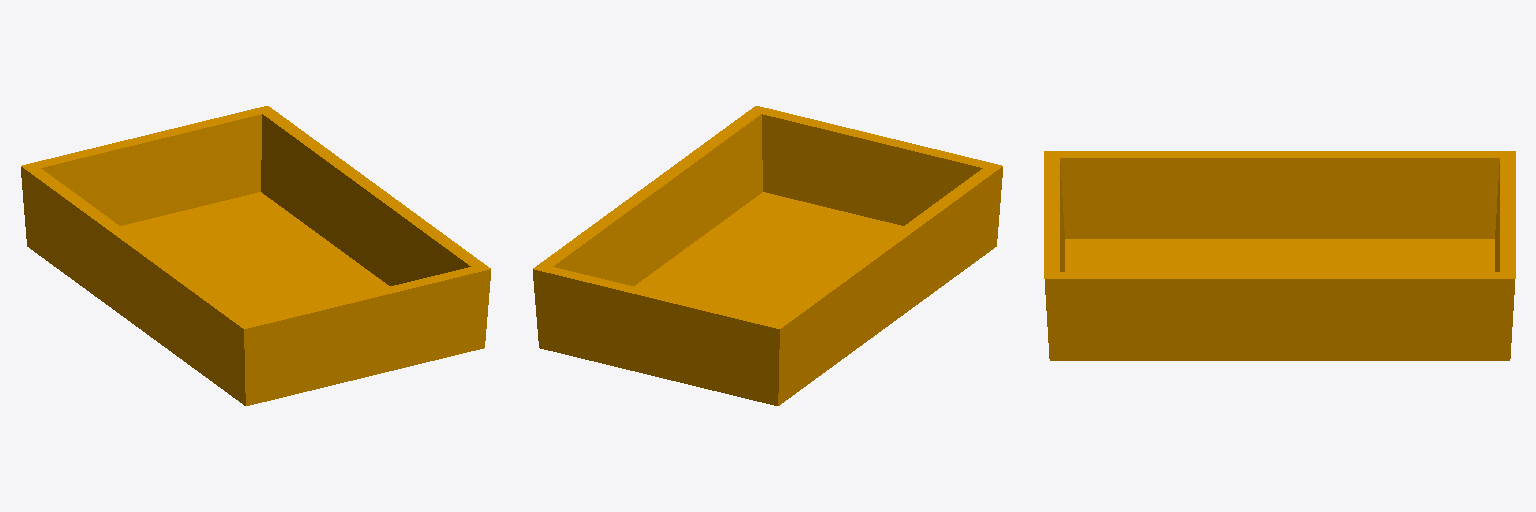
URDF robot description (container):
<?xml version="1.0"?>
<robot name="container">
  <link name="container">
    <inertial>
      <origin xyz="0 0 0"/>
      <mass value="1.7"/>
      <inertia ixx="1" ixy="0" ixz="0" iyy="1" iyz="0" izz="1"/>
    </inertial>
    <collision>
      <origin xyz="0 0 0"/>
      <geometry>
        <mesh filename="package://fcsc_description/mesh/container.stl" scale="1 1 1"/>
      </geometry>
    </collision>
    <visual>
      <origin xyz="0 0 0"/>
      <geometry>
        <mesh filename="package://fcsc_description/mesh/container.stl" scale="1 1 1"/>
      </geometry>
    </visual>
  </link>
  <!--link name="world"/>
  <joint name="fix" type="fixed">
    <parent link="world"/>
    <child link="container"/>
    <origin xyz="0 0 0" rpy="0 0 0"/>
  </joint-->
  <gazebo reference="container">
    <mu1 value="1.0"/>
    <mu2 value="1.0"/>
    <kp  value="10000000.0" />
    <kd  value="1.0" />
    <!--fdir1 value="1 0 0"/-->
    <material>Gazebo/Blue</material>
    <turnGravityOff>false</turnGravityOff>
  </gazebo>
</robot>

--- What the picture shows (computed from the rendered views, not written in the file) ---
Views: 3 orthographic renders of the robot side by side, from view 1: azimuth 30°, elevation 25°; view 2: azimuth 150°, elevation 25°; view 3: azimuth 270°, elevation 25°.
Robot: container — 1 links, 0 joints (none); root link container; default pose: all joints at 0.
Visible links, largest first — view 1: container; view 2: container; view 3: container.
Boxes of the visible links, x1,y1,x2,y2 form: container: [21, 106, 490, 405]; container: [533, 106, 1002, 405]; container: [1044, 151, 1515, 360].
Size in the robot's own frame: 0.441 by 0.69 by 0.136 metres.
1 mesh visuals loaded from 1 distinct referenced files (1 binary STL).